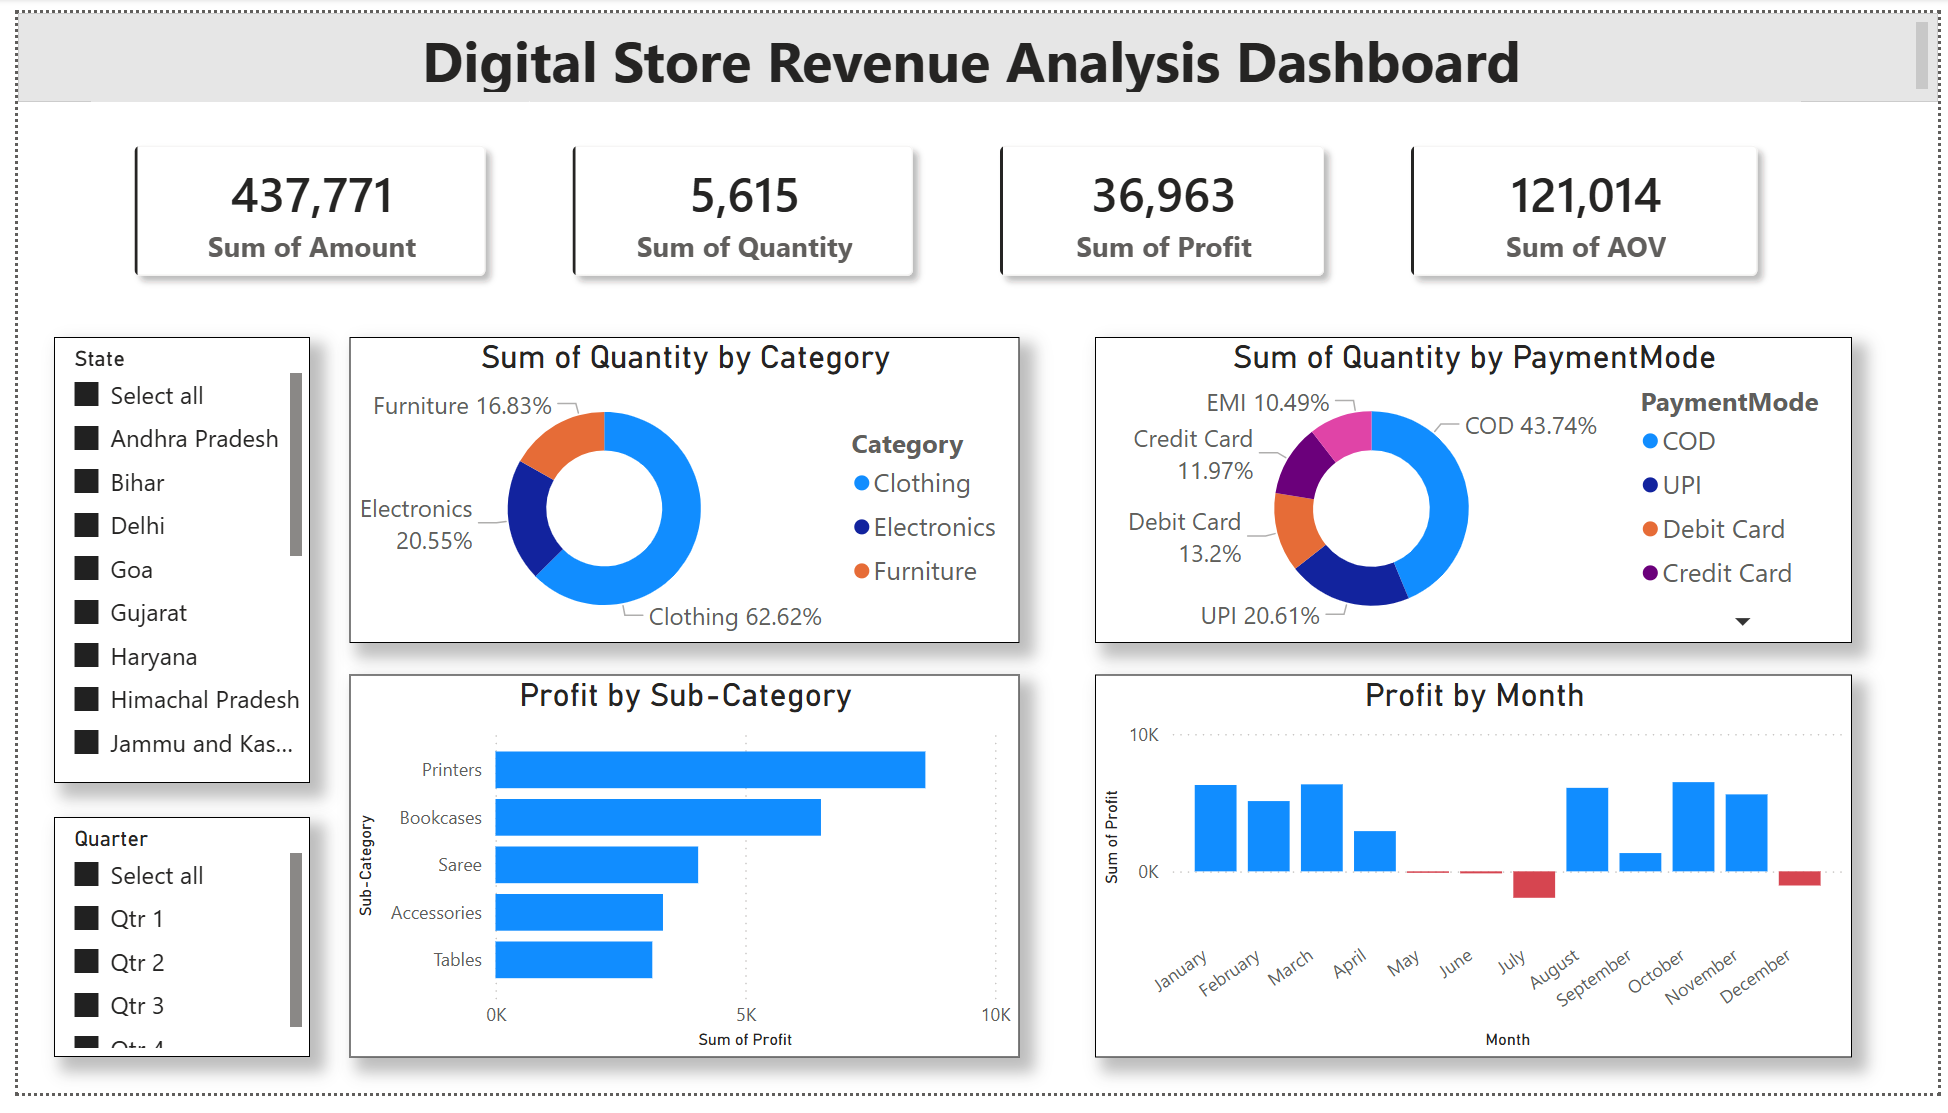

The dashboard page shown, as its layout file describes it:
{"tool":"powerbi","page":{"name":"Sales Overview","canvas":[1280,720],"ordinal":0},"visuals":[{"type":"textbox","box":[0,0,1280,58.8],"z":0},{"type":"columnChart","title":"Profit by Month","fields":{"Y":["Sum(Details.Profit)"],"Category":["Orders.Order Date.Variation.Date Hierarchy.Month"]},"box":[717.5,441.2,505,255],"z":1000},{"type":"barChart","title":"Profit by Sub-Category","fields":{"Y":["Sum(Details.Profit)"],"Category":["Details.Sub-Category"]},"box":[221.2,441.2,446.2,255],"z":2000},{"type":"donutChart","fields":{"Category":["Details.Category"],"Y":["Sum(Details.Quantity)"]},"box":[221.2,216.2,446.2,203.8],"z":3000},{"type":"donutChart","fields":{"Y":["Sum(Details.Quantity)"],"Category":["Details.PaymentMode"]},"box":[717.5,216.2,505,203.8],"z":4000},{"type":"cardVisual","fields":{"Data":["Sum(Details.Amount)"]},"box":[48.8,58.8,292.5,145],"z":5000},{"type":"cardVisual","fields":{"Data":["Sum(Details.Quantity)"]},"box":[341.2,58.8,285,145],"z":6000},{"type":"cardVisual","fields":{"Data":["Sum(Details.Profit)"]},"box":[626.2,58.8,273.8,145],"z":7000},{"type":"cardVisual","fields":{"Data":["Sum(Details.AOV)"]},"box":[900,58.8,288.8,145],"z":8000},{"type":"slicer","fields":{"Values":["Orders.Order Date.Variation.Date Hierarchy.Quarter"]},"box":[23.8,536.2,171.2,160],"z":8001},{"type":"slicer","fields":{"Values":["Orders.State"]},"box":[23.8,216.2,171.2,296.2],"z":8002}]}

Visuals, with their boxes in screenshot pixels (x1, y1, x2, y2), scaled from the page's 1280x720 canvas onto the 1948x1113 screenshot:
textbox: [left=0, top=0, right=1947, bottom=91]
"Profit by Month" columnChart: [left=1092, top=682, right=1860, bottom=1076]
"Profit by Sub-Category" barChart: [left=337, top=682, right=1016, bottom=1076]
donutChart - Details.Category x Sum(Details.Quantity): [left=337, top=334, right=1016, bottom=649]
donutChart - Sum(Details.Quantity) x Details.PaymentMode: [left=1092, top=334, right=1860, bottom=649]
cardVisual - Sum(Details.Amount): [left=74, top=91, right=519, bottom=315]
cardVisual - Sum(Details.Quantity): [left=519, top=91, right=953, bottom=315]
cardVisual - Sum(Details.Profit): [left=953, top=91, right=1370, bottom=315]
cardVisual - Sum(Details.AOV): [left=1370, top=91, right=1809, bottom=315]
slicer - Orders.Order Date.Variation.Date Hierarchy.Quarter: [left=36, top=829, right=297, bottom=1076]
slicer - Orders.State: [left=36, top=334, right=297, bottom=792]
